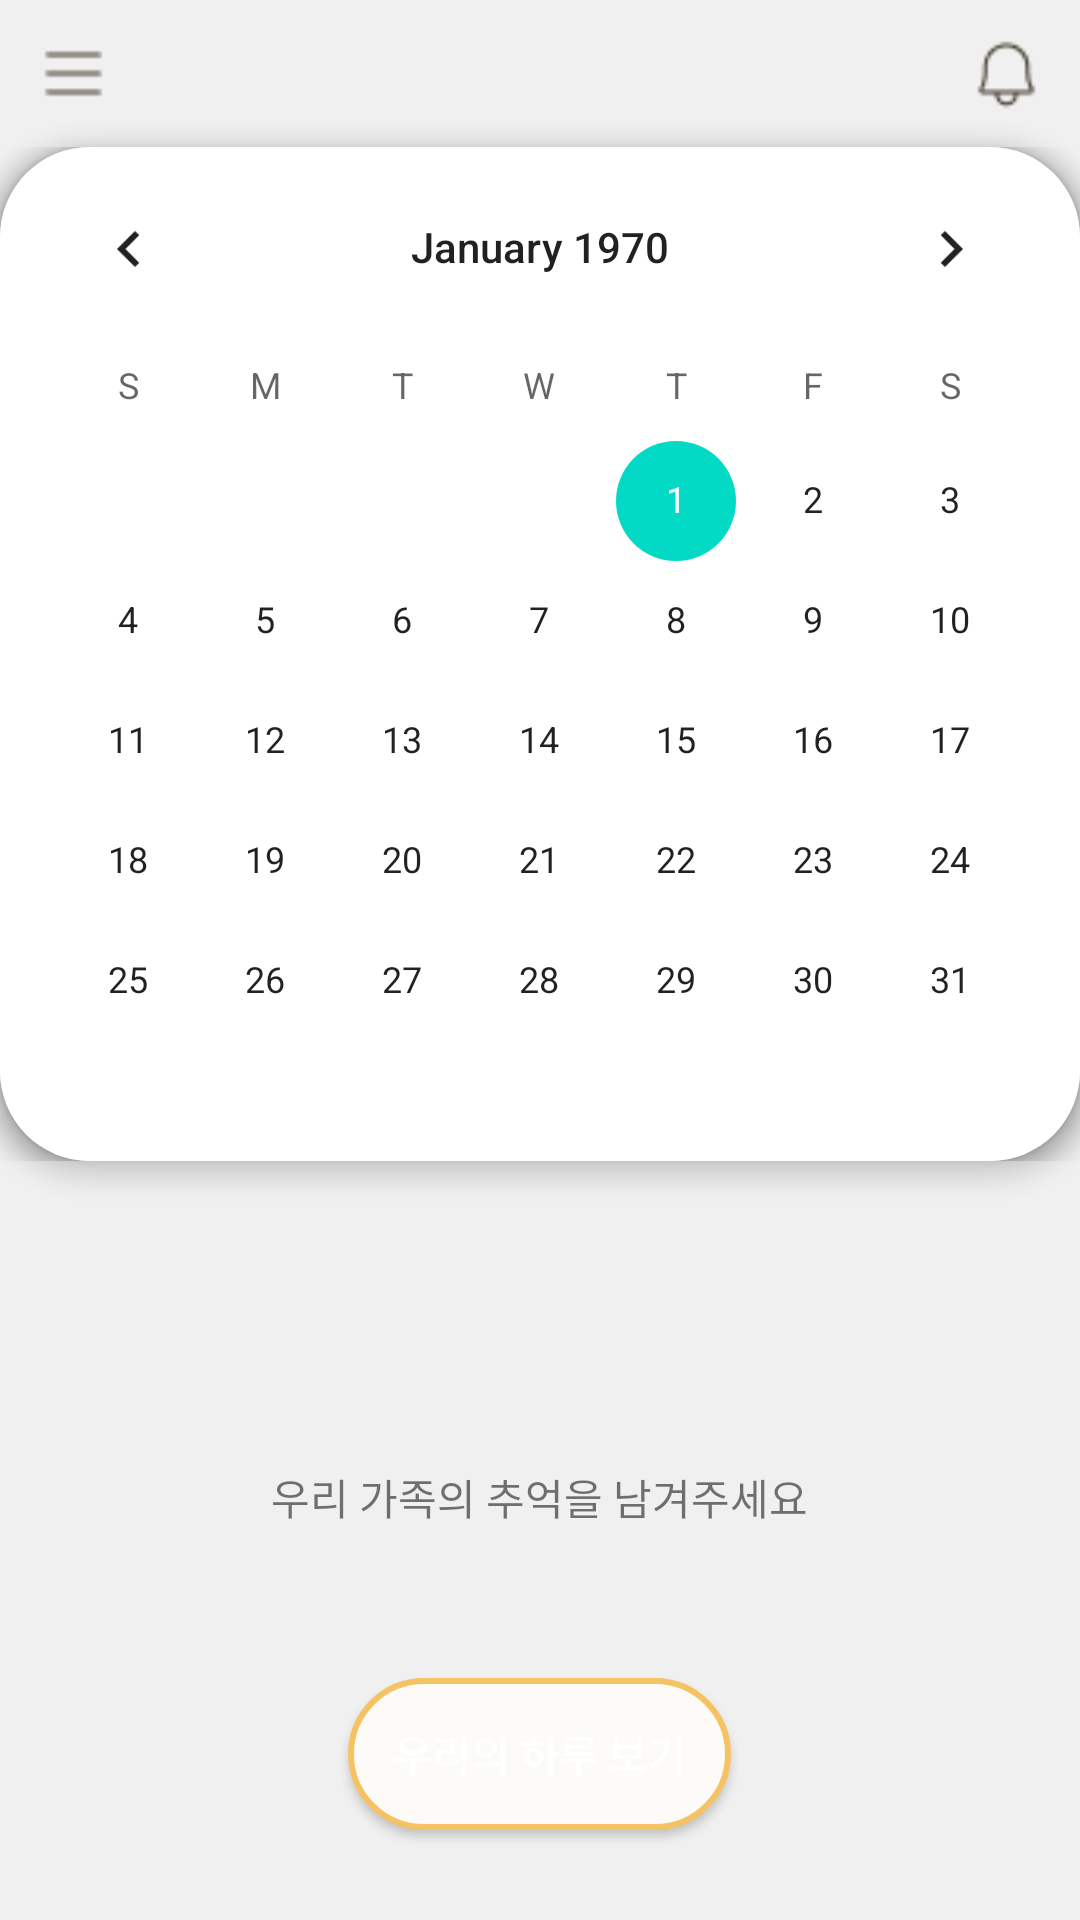

Icons on this 1080px x 1920px Android screen, each with its box as (x1, y1, x2, y2):
bell: (977, 41, 1036, 108)
list: (45, 51, 102, 96)
